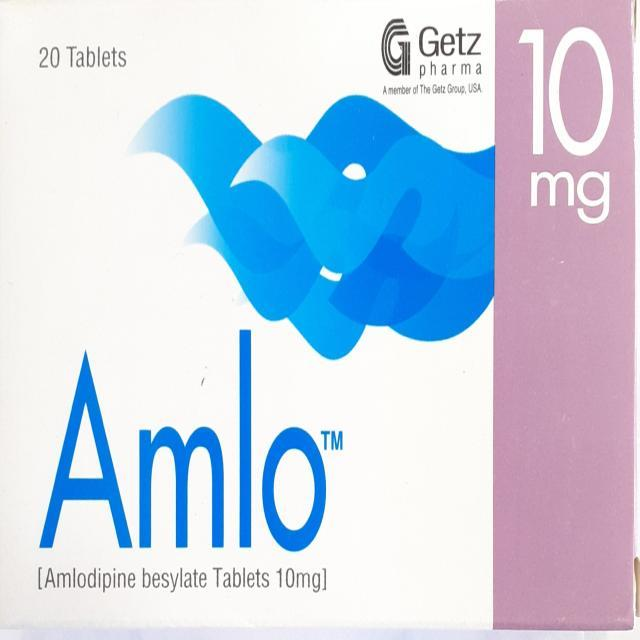drug-name: (38, 325, 352, 551)
